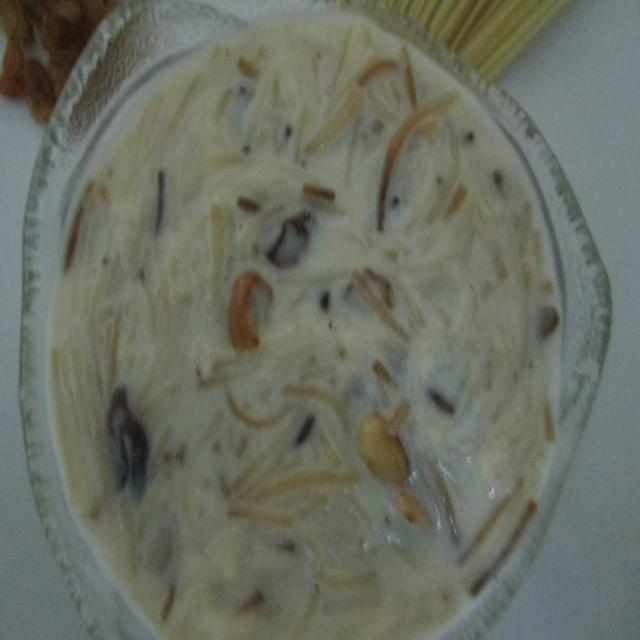shavige payasa: (29, 0, 586, 640)
